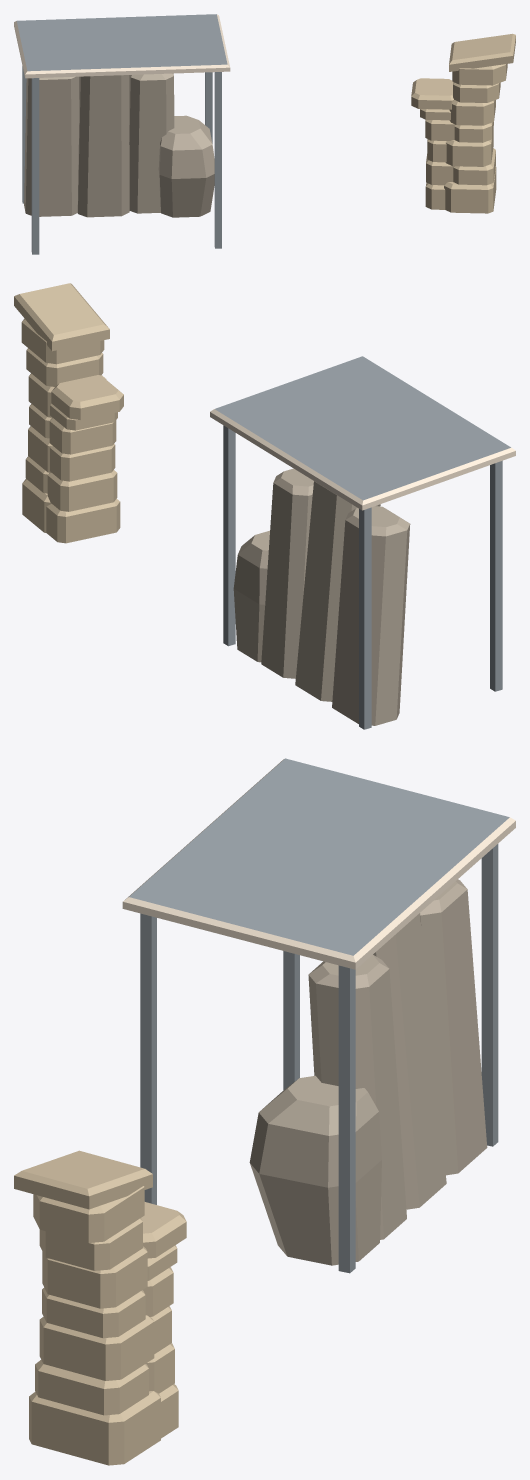
File: usnwc-climbing-center.glb
3 renders of one model, top to bottom at view 1: azimuth 30°, elevation 25°; view 2: azimuth 150°, elevation 25°; view 3: azimuth 270°, elevation 25°, orthographic. The views are drawn at different scales.
Visible parts, largest first — view 1: U.S. National Whitewater Center Climbing Center; view 2: U.S. National Whitewater Center Climbing Center; view 3: U.S. National Whitewater Center Climbing Center.
Part boxes in pixels (x1,y1,x2,y2): U.S. National Whitewater Center Climbing Center: [14, 14, 515, 254]; U.S. National Whitewater Center Climbing Center: [14, 283, 515, 729]; U.S. National Whitewater Center Climbing Center: [14, 758, 515, 1465].
Bounding box in the file's own units: 40.74 × 16.53 × 22.38.
